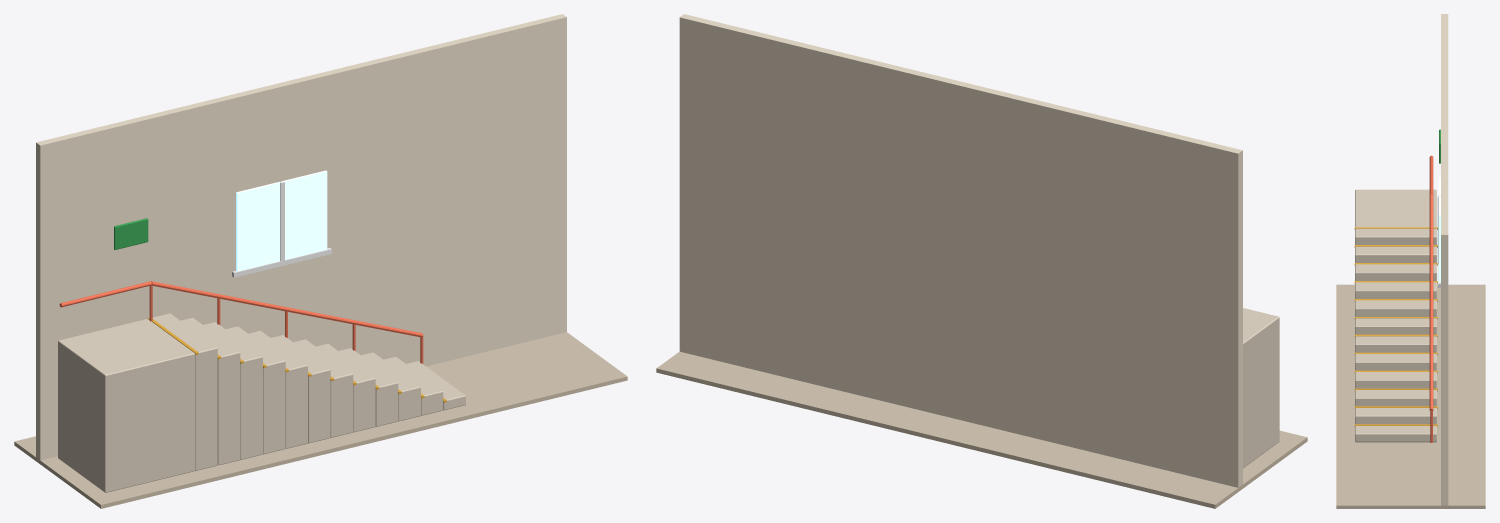
File: stairwell.glb
3 views of the same model, side by side, from view 1: azimuth 30°, elevation 25°; view 2: azimuth 150°, elevation 25°; view 3: azimuth 270°, elevation 25° (orthographic). The views are drawn at different scales.
Visible parts, largest first — view 1: wall, landing, floor, window, step0, step1, step2, step3, step4, step5, step6, step7 (+6 smaller); view 2: wall, floor, landing; view 3: floor, wall, landing, step11, step10, step0, step1, step2, step3, step4, step5, step6 (+7 smaller).
Boxes of the visible parts, x1,y1,x2,y2 form: wall: (36,14,566,460); landing: (58,319,195,492); floor: (14,332,627,508); window: (236,170,327,271); step0: (152,313,217,470); step1: (181,317,240,465); step2: (203,322,262,459); step3: (226,326,285,454); step4: (248,330,307,448); step5: (271,335,330,443); step6: (293,339,353,437); step7: (316,343,375,432); wall: (679,14,1242,487); floor: (656,351,1307,508); landing: (1243,308,1279,467); floor: (1336,284,1485,508); wall: (1441,14,1448,505); landing: (1355,189,1436,227); step11: (1355,426,1436,442); step10: (1355,408,1436,424); step0: (1355,228,1436,244); step1: (1355,246,1436,262); step2: (1355,264,1436,280); step3: (1355,282,1436,298); step4: (1355,300,1436,316); step5: (1355,318,1436,334); step6: (1355,336,1436,352).
Bounding box in the file's own units: 14 × 8.1 × 4.
